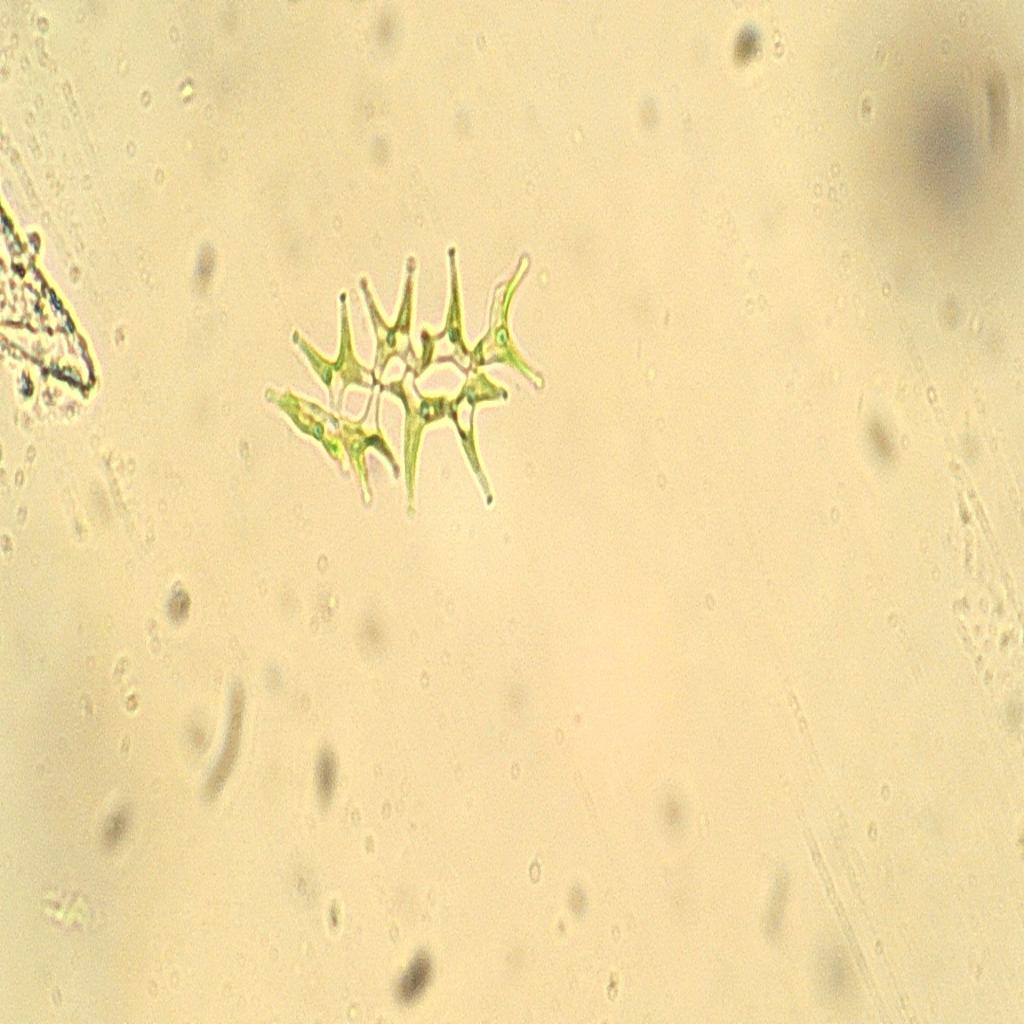Pediastrum_CFI: (258, 190, 558, 536)
